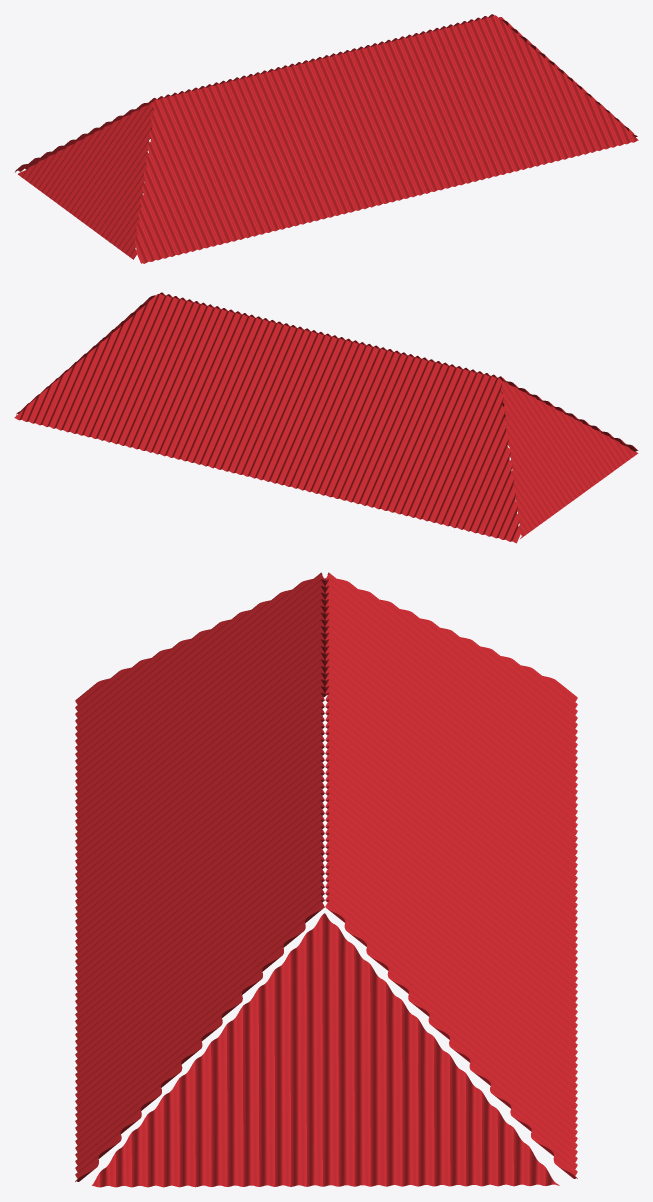
Rendered from dalgali3.glb.
3 views of the same model, one above another, from view 1: azimuth 30°, elevation 25°; view 2: azimuth 150°, elevation 25°; view 3: azimuth 270°, elevation 25° (orthographic). The views are drawn at different scales.
Parts seen in each view (by area): view 1: DALGALI DAM EV3.; view 2: DALGALI DAM EV3.; view 3: DALGALI DAM EV3..
Part boxes in pixels (x1,y1,x2,y2): DALGALI DAM EV3.: [15, 14, 638, 263]; DALGALI DAM EV3.: [14, 292, 638, 543]; DALGALI DAM EV3.: [75, 572, 577, 1187].
Bounding box in the file's own units: 50.19 × 9.87 × 21.63.
